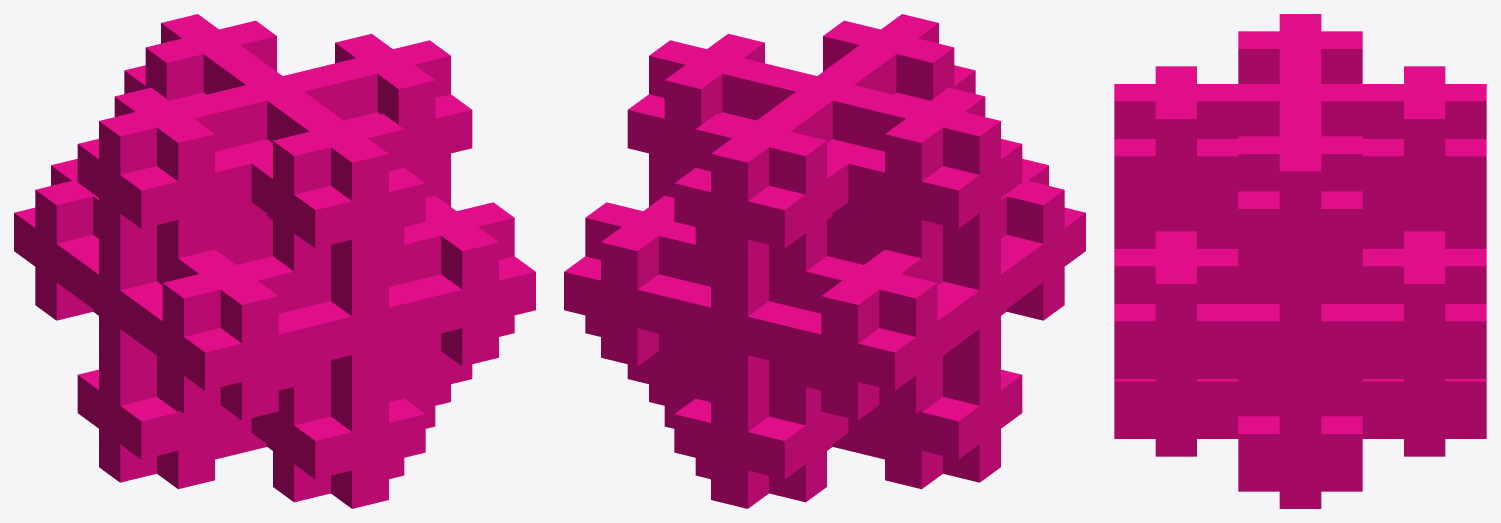
The model's file is fract.dae.
3 renders of one model, left to right at view 1: azimuth 30°, elevation 25°; view 2: azimuth 150°, elevation 25°; view 3: azimuth 270°, elevation 25°, orthographic. The views are drawn at different scales.
Visible parts, largest first — view 1: Cube; view 2: Cube; view 3: Cube.
Boxes of the visible parts, x1,y1,x2,y2 form: Cube: (14, 14, 535, 508); Cube: (564, 14, 1085, 508); Cube: (1114, 14, 1486, 508).
Size of the model in its own units: 18 by 18 by 18.
